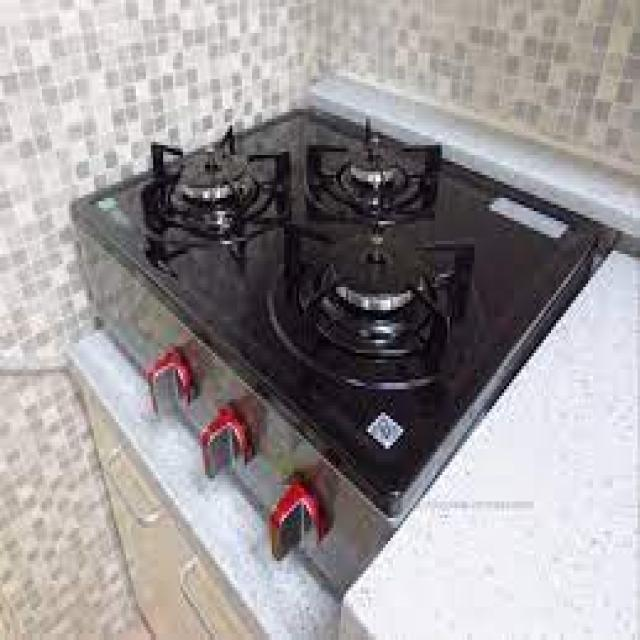knob_ON: (128, 104, 548, 382)
